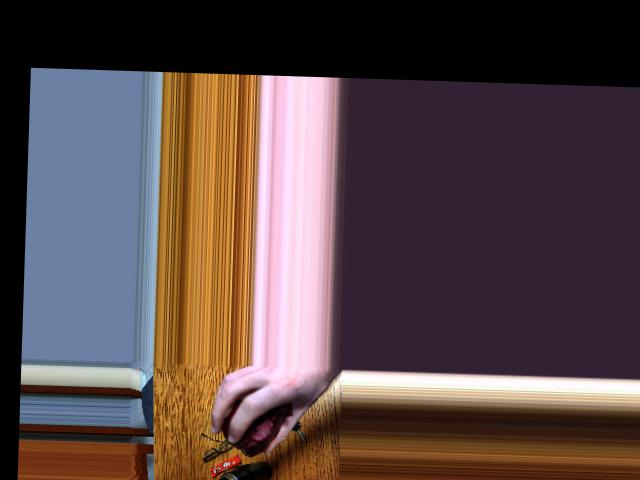onion: (224, 401, 286, 451)
